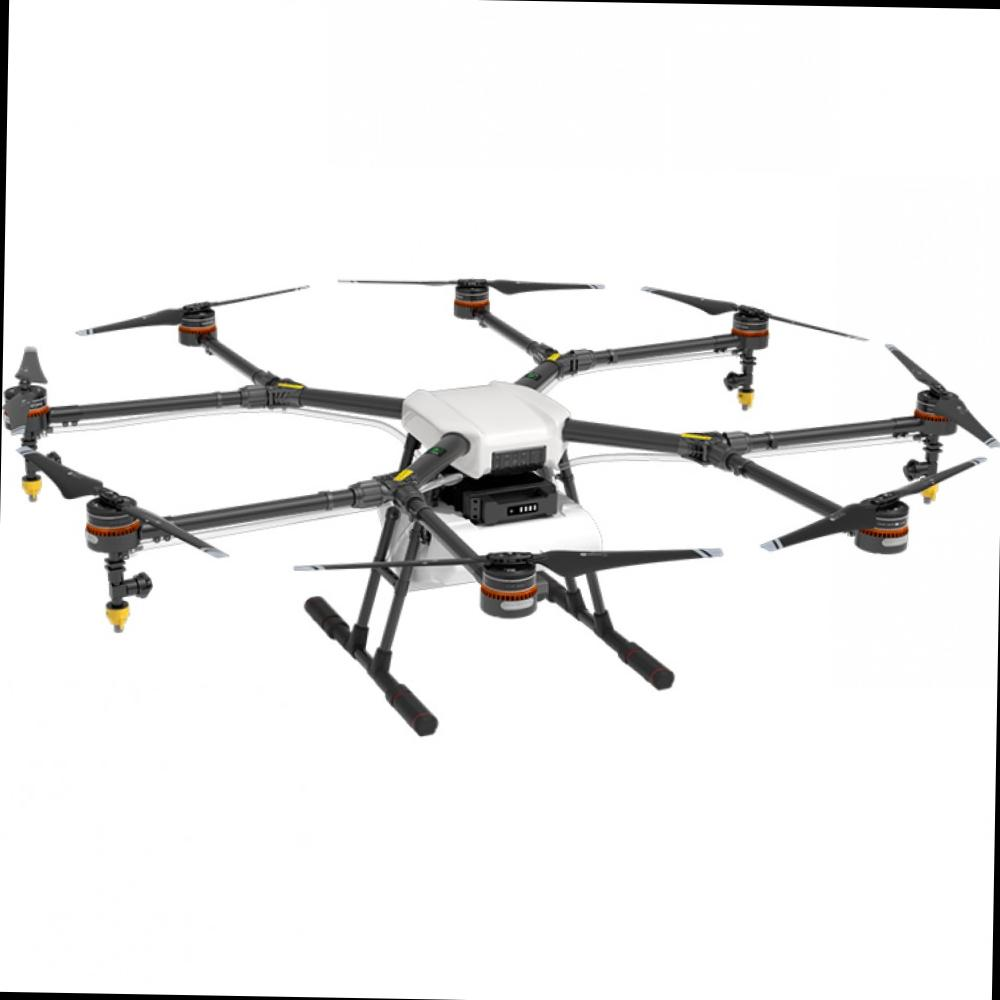drone: (0, 260, 991, 721)
